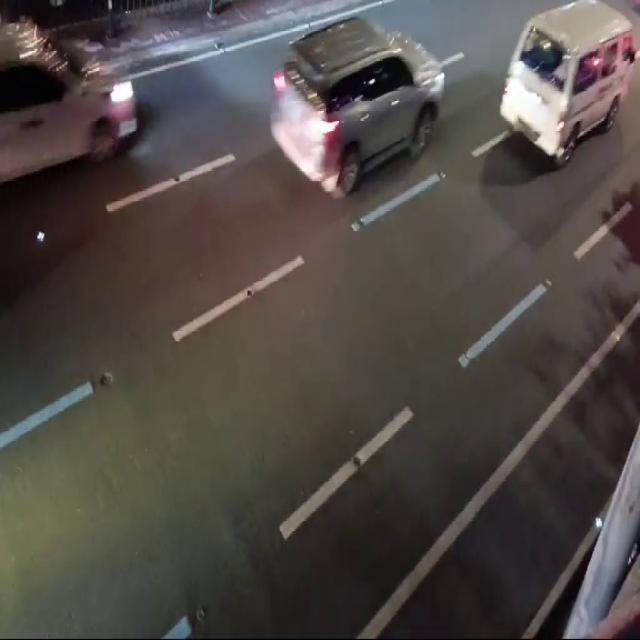car: (268, 23, 454, 196), (503, 8, 636, 163)
